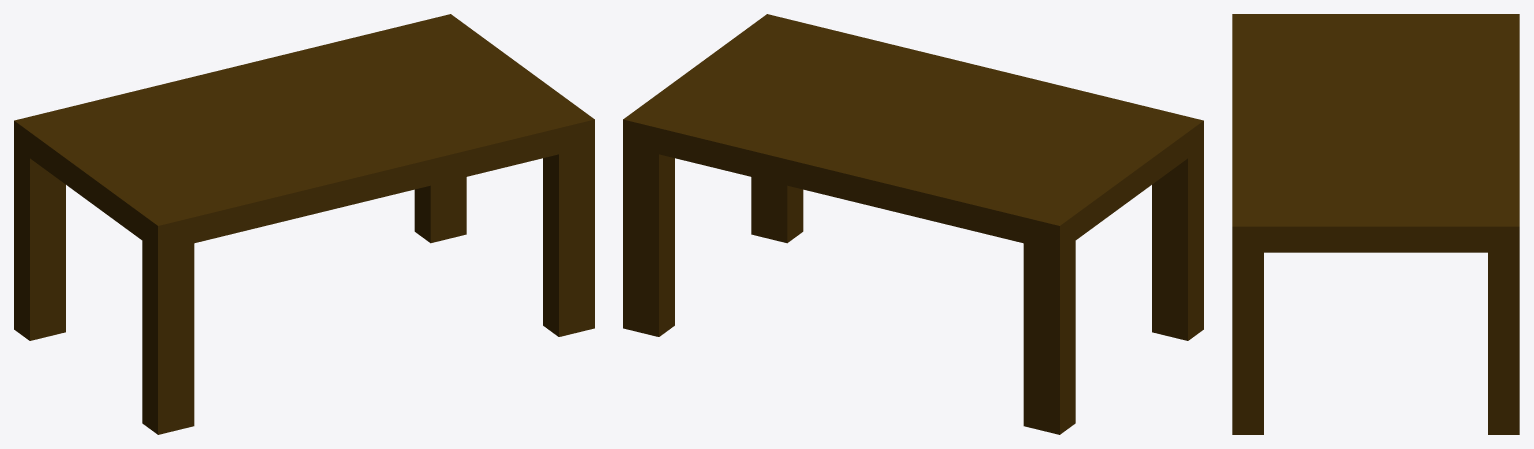
File: table (1).fbx
3 views of the same model, side by side, from view 1: azimuth 30°, elevation 25°; view 2: azimuth 150°, elevation 25°; view 3: azimuth 270°, elevation 25° (orthographic).
Parts seen in each view (by area): view 1: Cube; view 2: Cube; view 3: Cube.
Boxes of the visible parts, x1,y1,x2,y2 form: Cube: (14, 14, 594, 434); Cube: (623, 14, 1203, 434); Cube: (1232, 14, 1519, 434).
Bounding box in the file's own units: 350 × 160 × 200.
